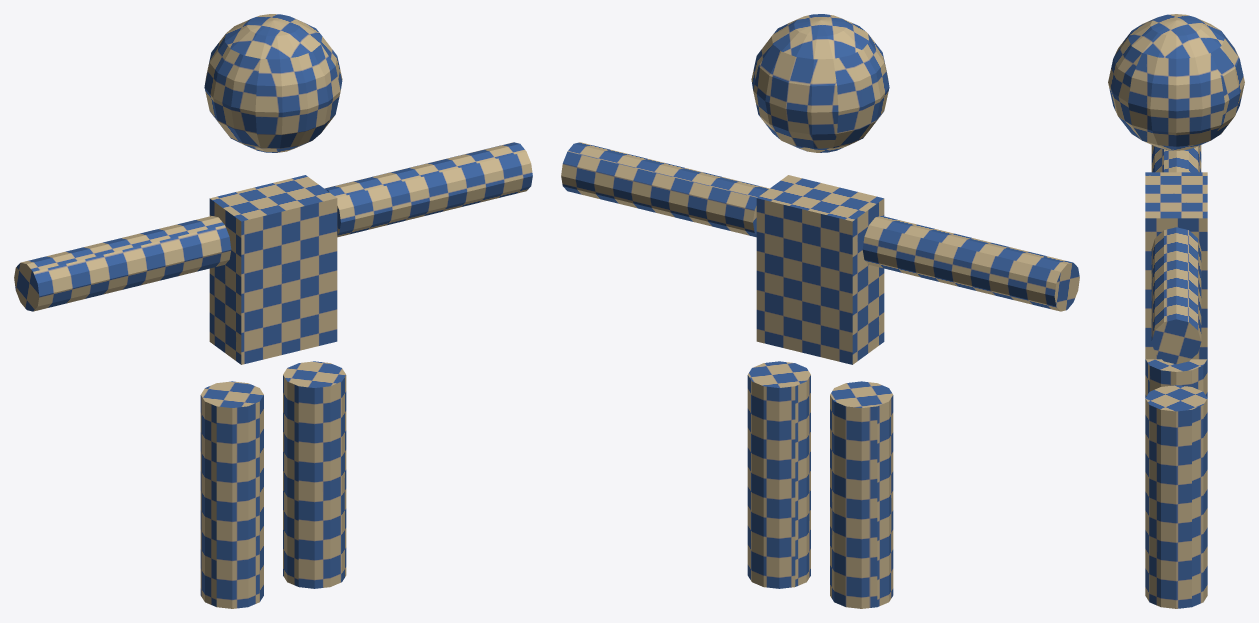
File: character_proxy_clean.glb
3 renders of one model, left to right at view 1: azimuth 30°, elevation 25°; view 2: azimuth 150°, elevation 25°; view 3: azimuth 270°, elevation 25°, orthographic.
Parts seen in each view (by area): view 1: character_proxy_clean; view 2: character_proxy_clean; view 3: character_proxy_clean.
Part boxes in pixels (x1,y1,x2,y2): character_proxy_clean: (14,14,532,608); character_proxy_clean: (561,14,1079,608); character_proxy_clean: (1108,14,1244,608).
Size of the model in its own units: 1.8 by 1.97 by 0.44.
1 material, 1 textured.
